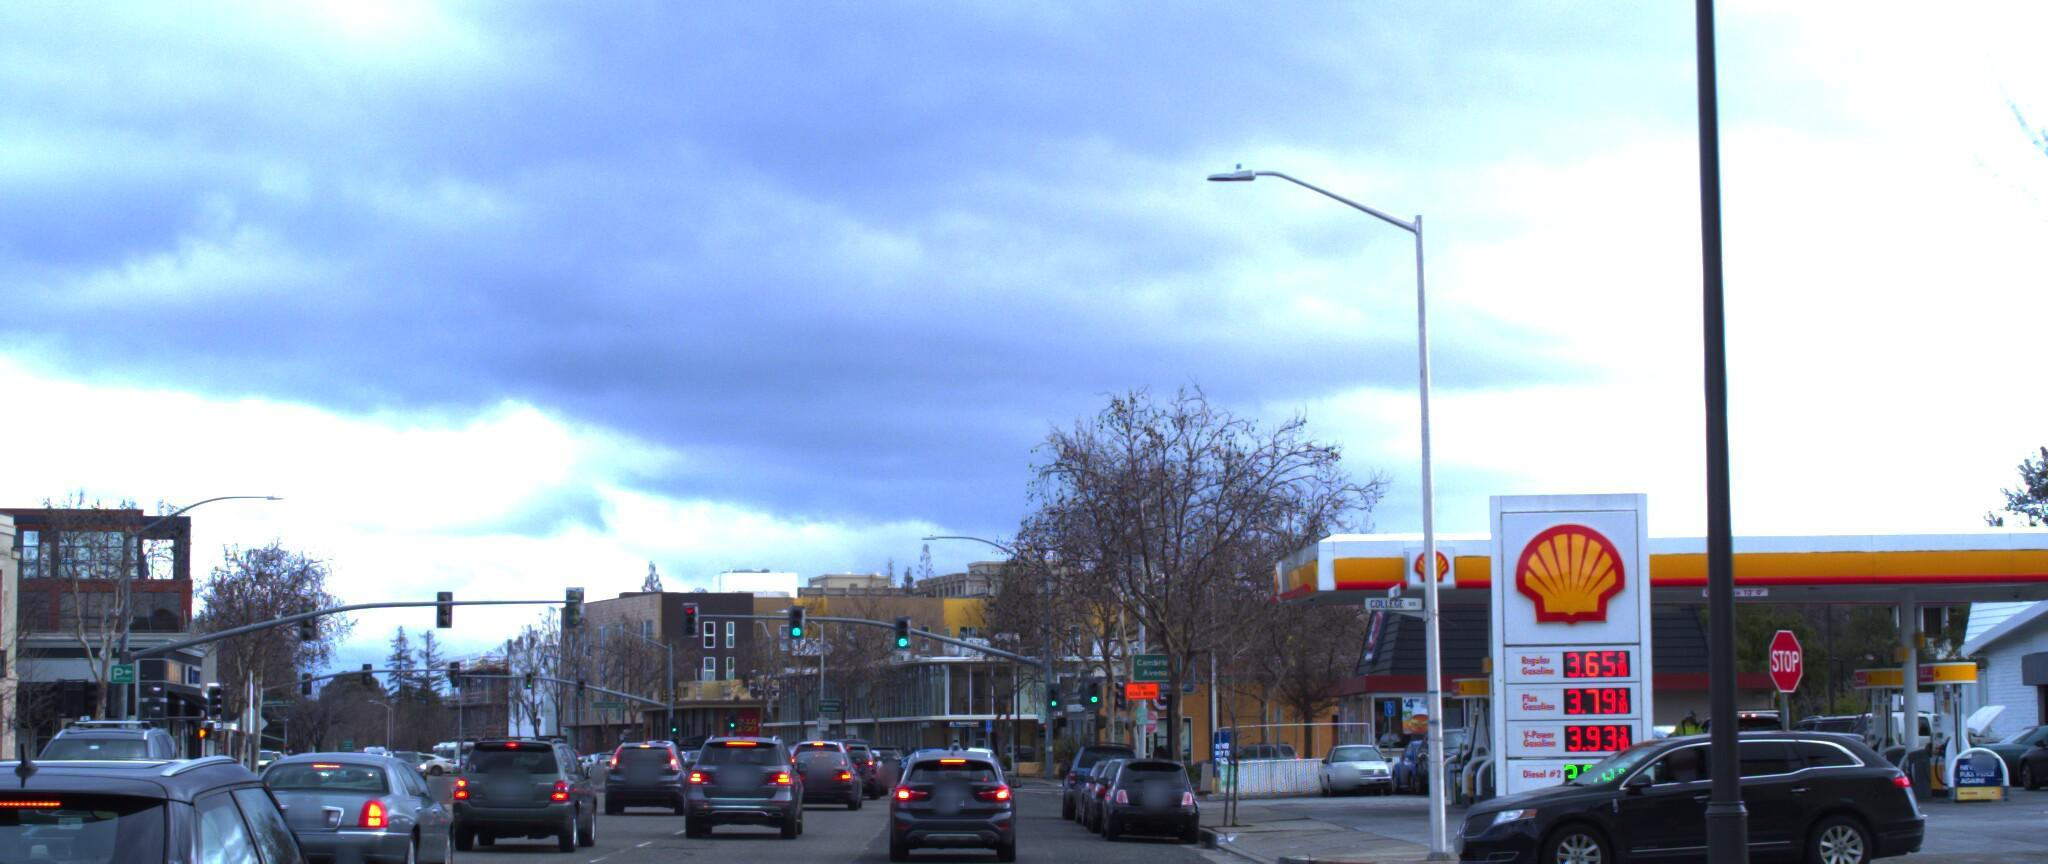car: (1387, 713, 1891, 864), (0, 733, 408, 864), (222, 739, 473, 864), (0, 702, 199, 857), (445, 719, 592, 841), (1809, 685, 2002, 773), (880, 747, 1014, 864), (1652, 693, 1809, 788), (678, 728, 795, 834), (1861, 800, 2048, 864), (1085, 737, 1195, 827), (611, 713, 704, 794), (1048, 722, 1136, 801), (794, 737, 870, 797)
